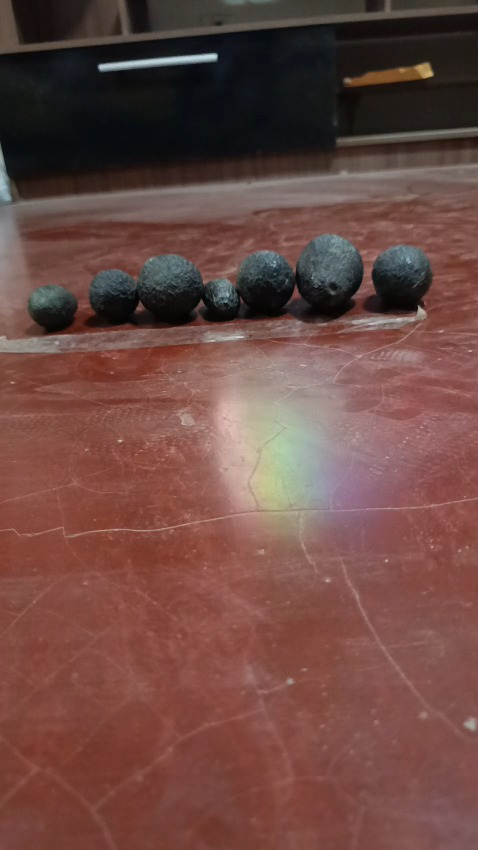Primera: (295, 233, 364, 311), (137, 253, 203, 322)
Segunda: (371, 244, 432, 309), (236, 250, 296, 313), (89, 268, 139, 323)
Tercera: (27, 283, 77, 330), (201, 278, 239, 320)
